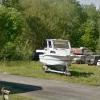Boat: (35, 32, 79, 84)
